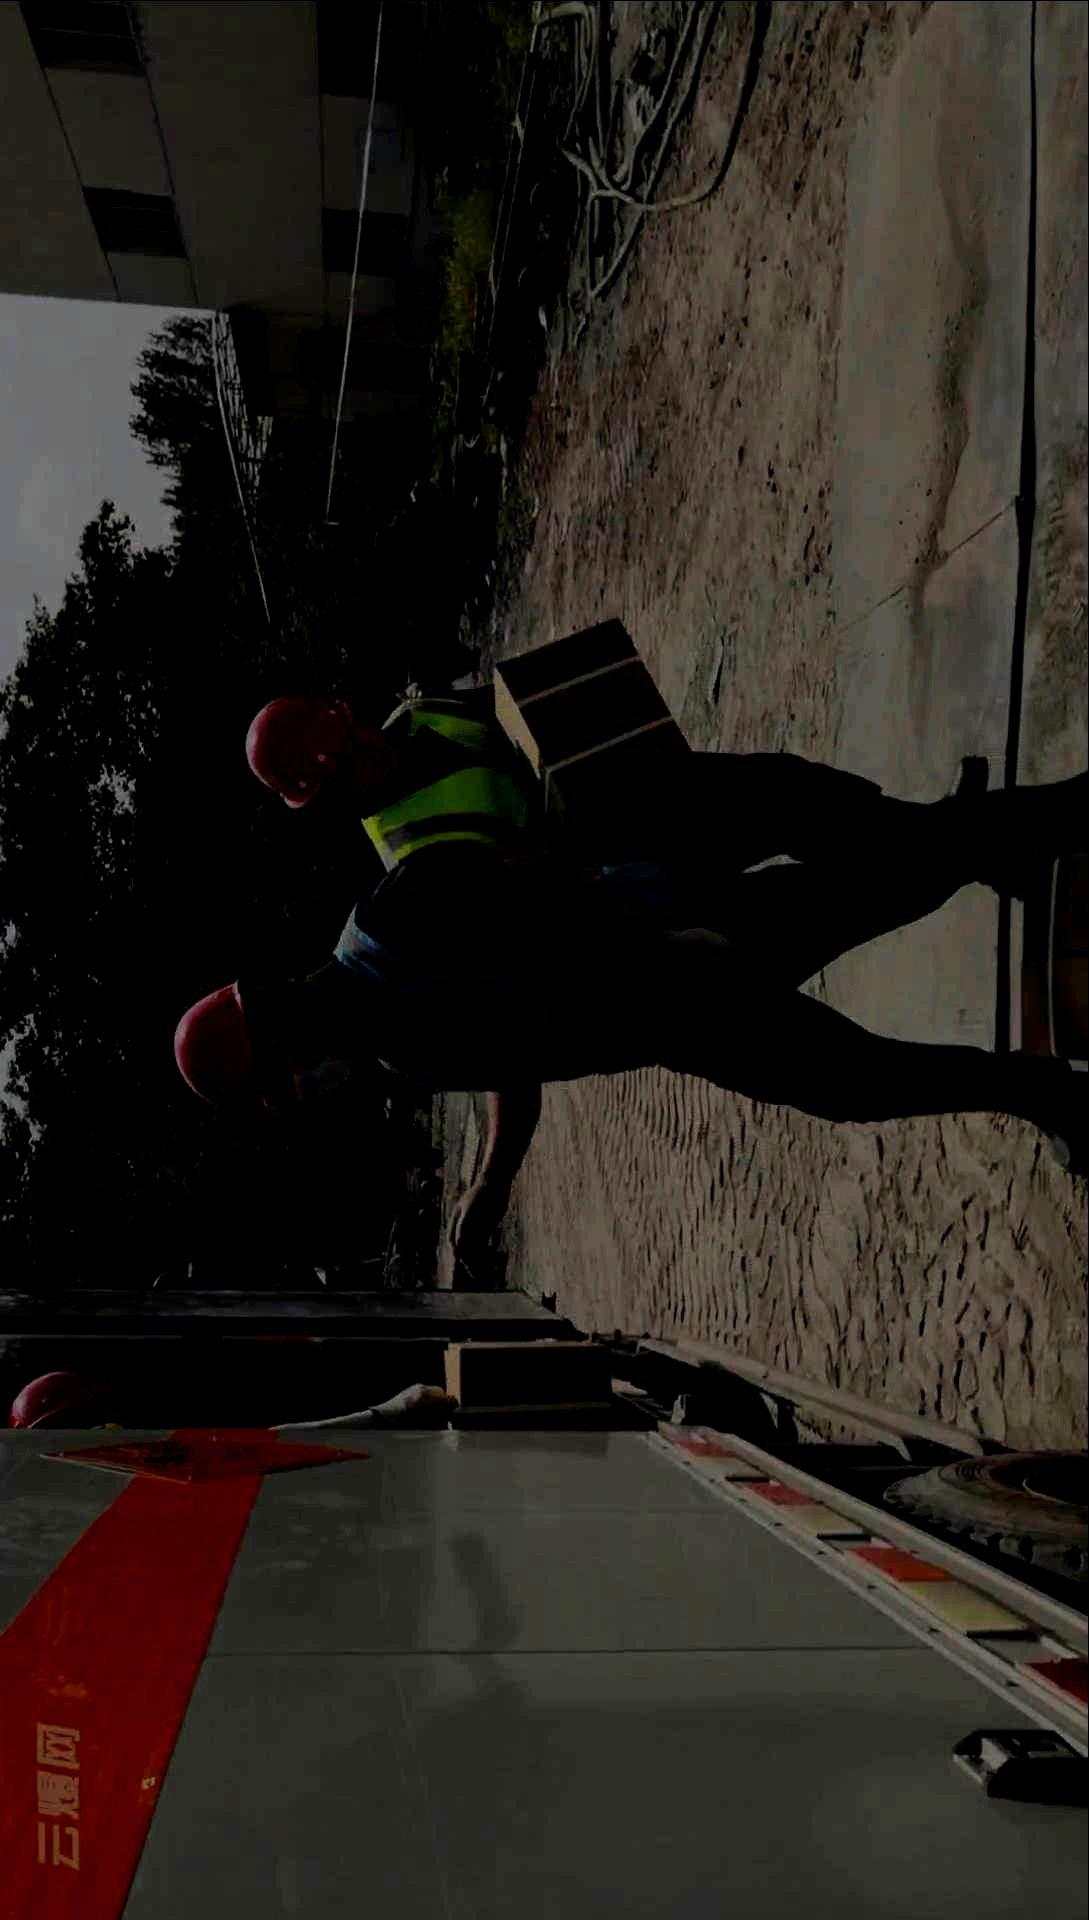helmet: (175, 977, 324, 1109), (243, 694, 352, 808), (11, 1371, 103, 1429)
